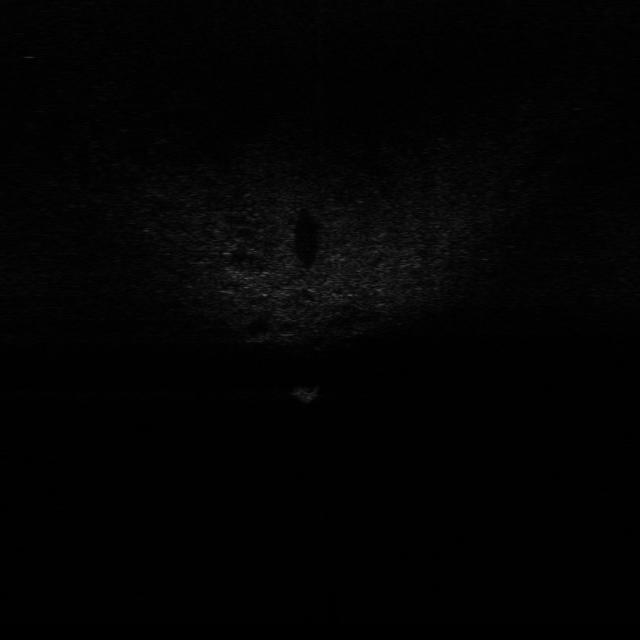cube: (291, 383, 323, 406)
